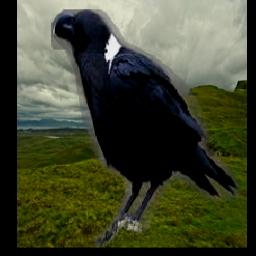Crow: (52, 9, 240, 248)
